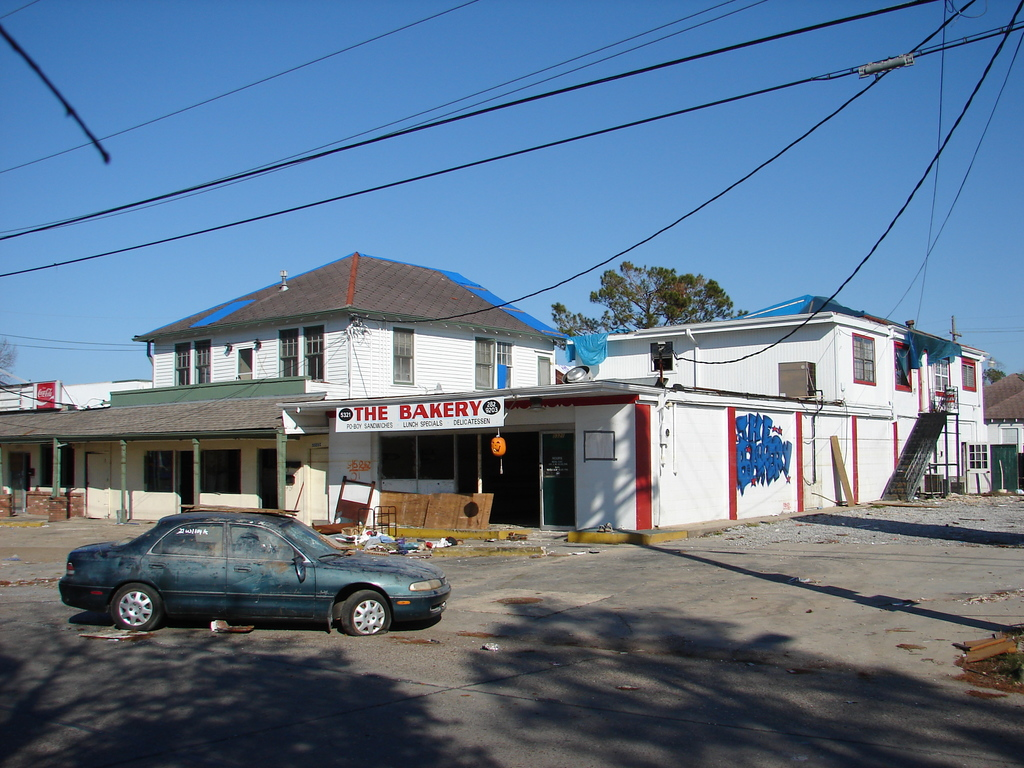Car: (59, 511, 430, 644)
